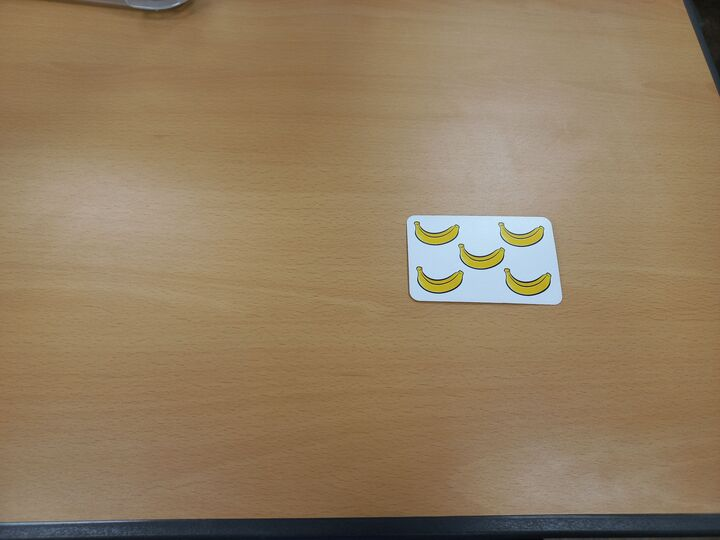banana5: (404, 215, 566, 306)
